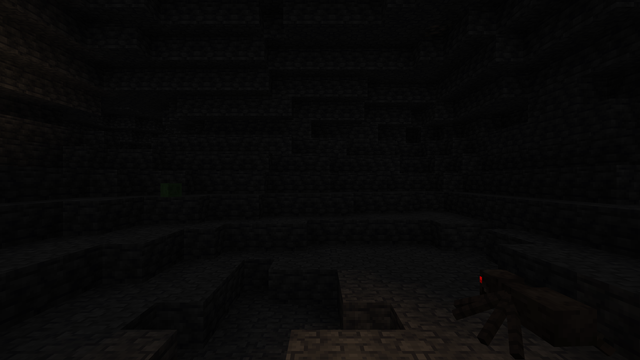creepers: (181, 220, 221, 308)
